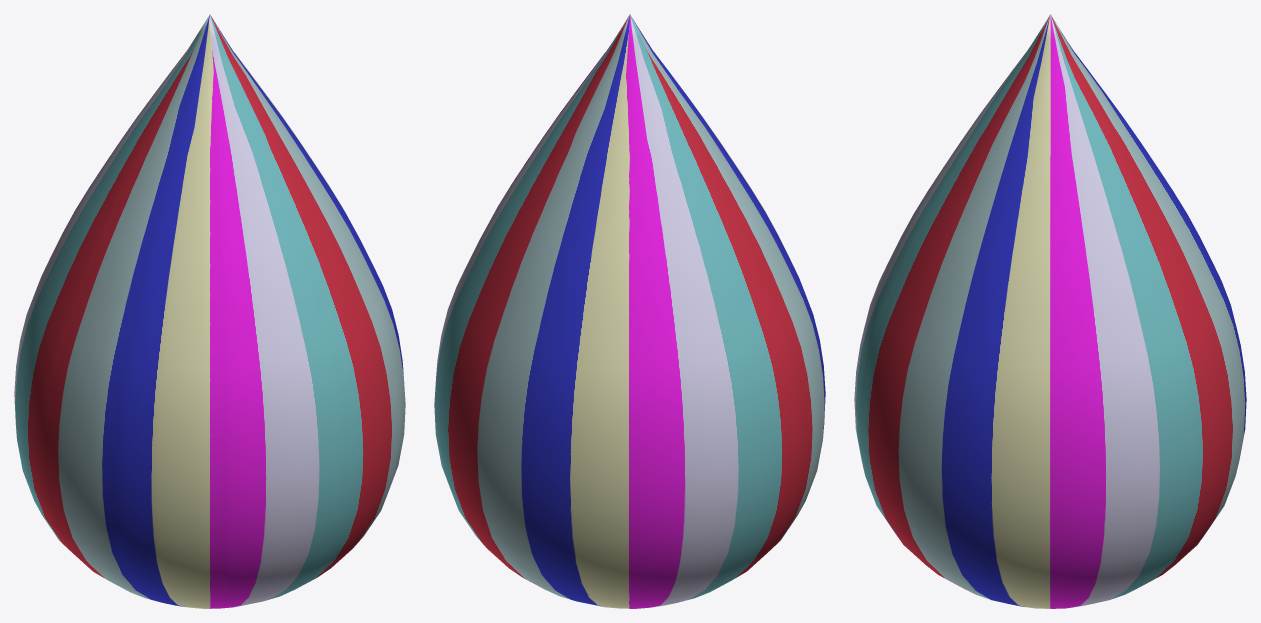
Rendered from C-4_Onstick.fbx.
3 renders of one model, left to right at view 1: azimuth 30°, elevation 25°; view 2: azimuth 150°, elevation 25°; view 3: azimuth 270°, elevation 25°, orthographic.
Parts seen in each view (by area): view 1: C-4; view 2: C-4; view 3: C-4.
Boxes of the visible parts, <box> form: C-4: <box>14,14,405,608</box>; C-4: <box>434,14,825,608</box>; C-4: <box>854,14,1246,608</box>.
Size of the model in its own units: 0.7963 by 1.29 by 0.7963.
1 material, 1 textured.
